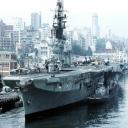Portanaves: (3, 11, 126, 124)
